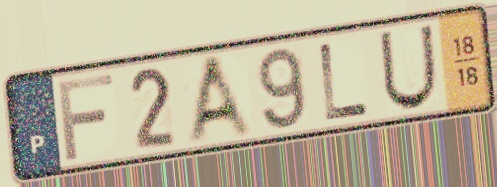2: (129, 65, 178, 151)
9: (252, 45, 310, 132)
A: (184, 50, 259, 145)
F: (54, 70, 118, 163)
L: (316, 39, 373, 124)
U: (376, 22, 440, 114)
